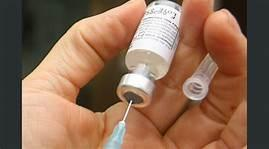Syringe: (113, 1, 182, 113)
